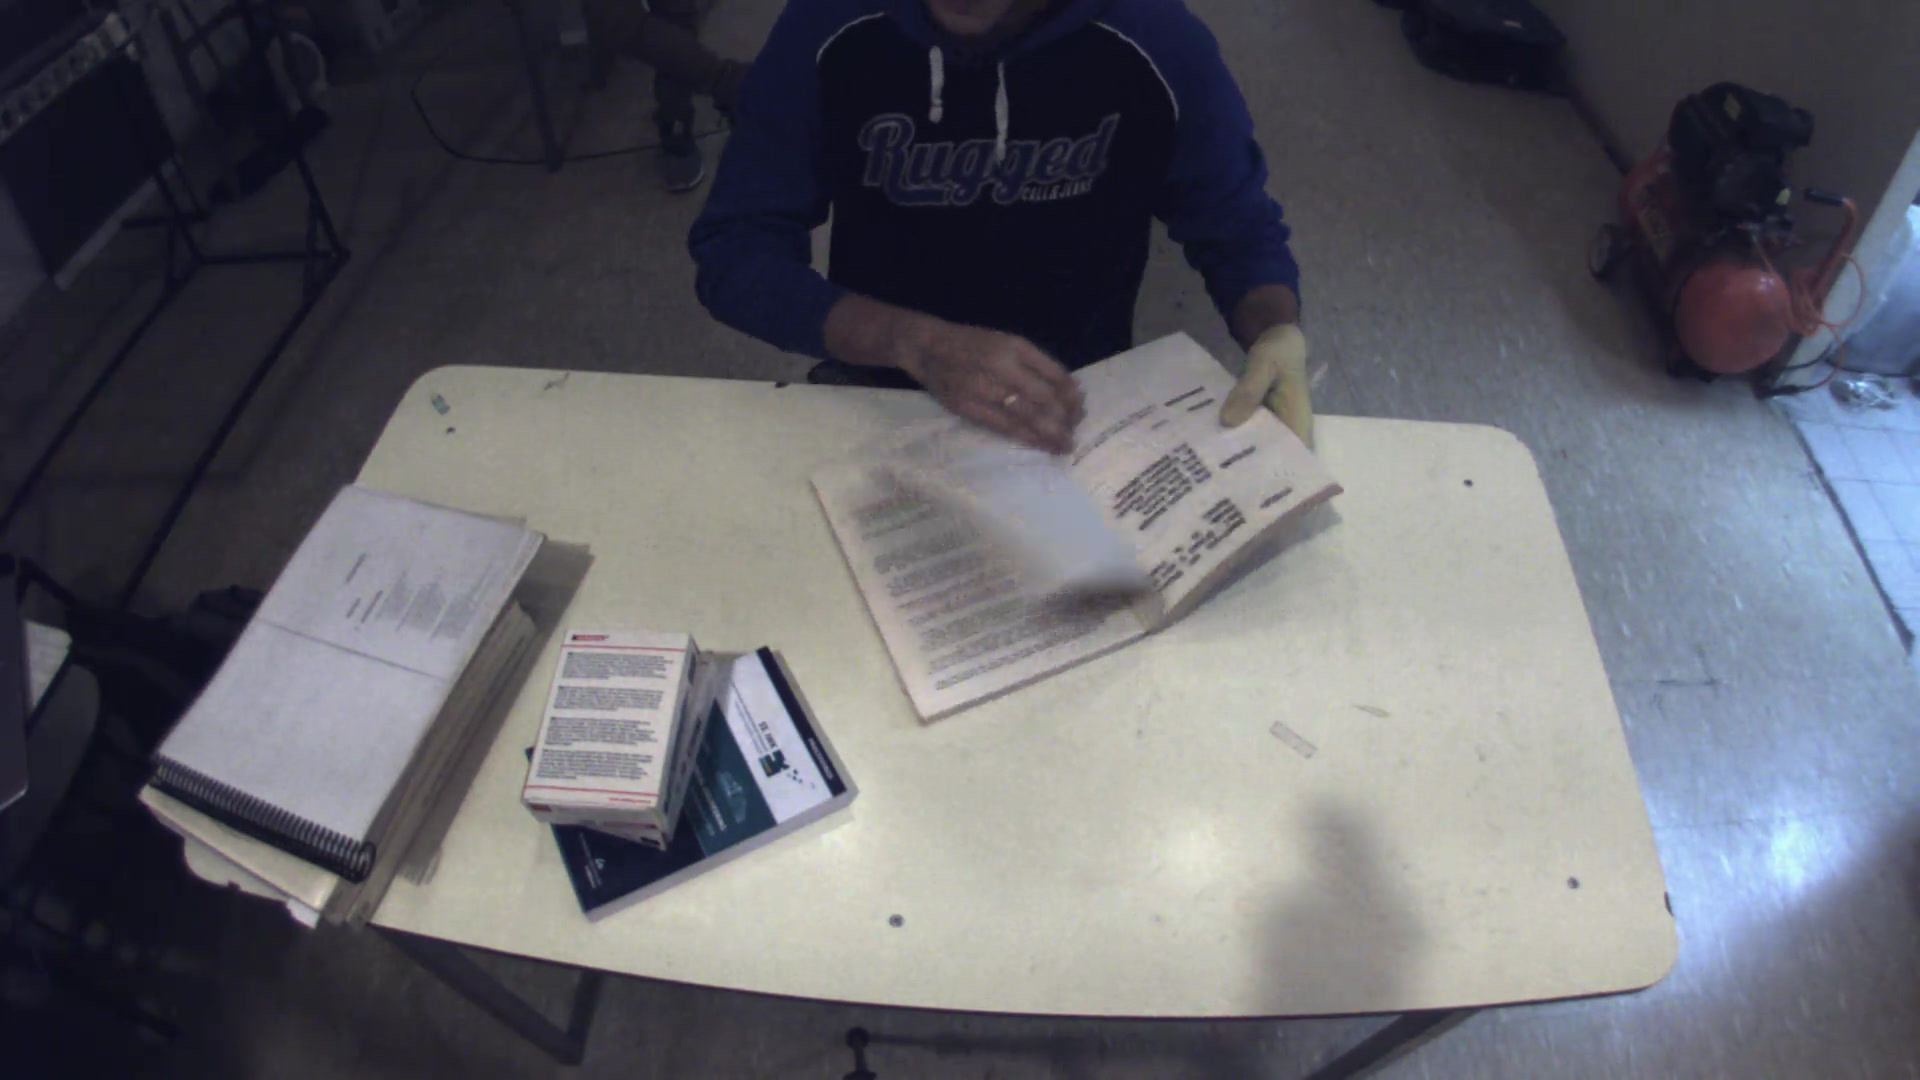hand: (823, 287, 1093, 452), (1209, 316, 1332, 446)
